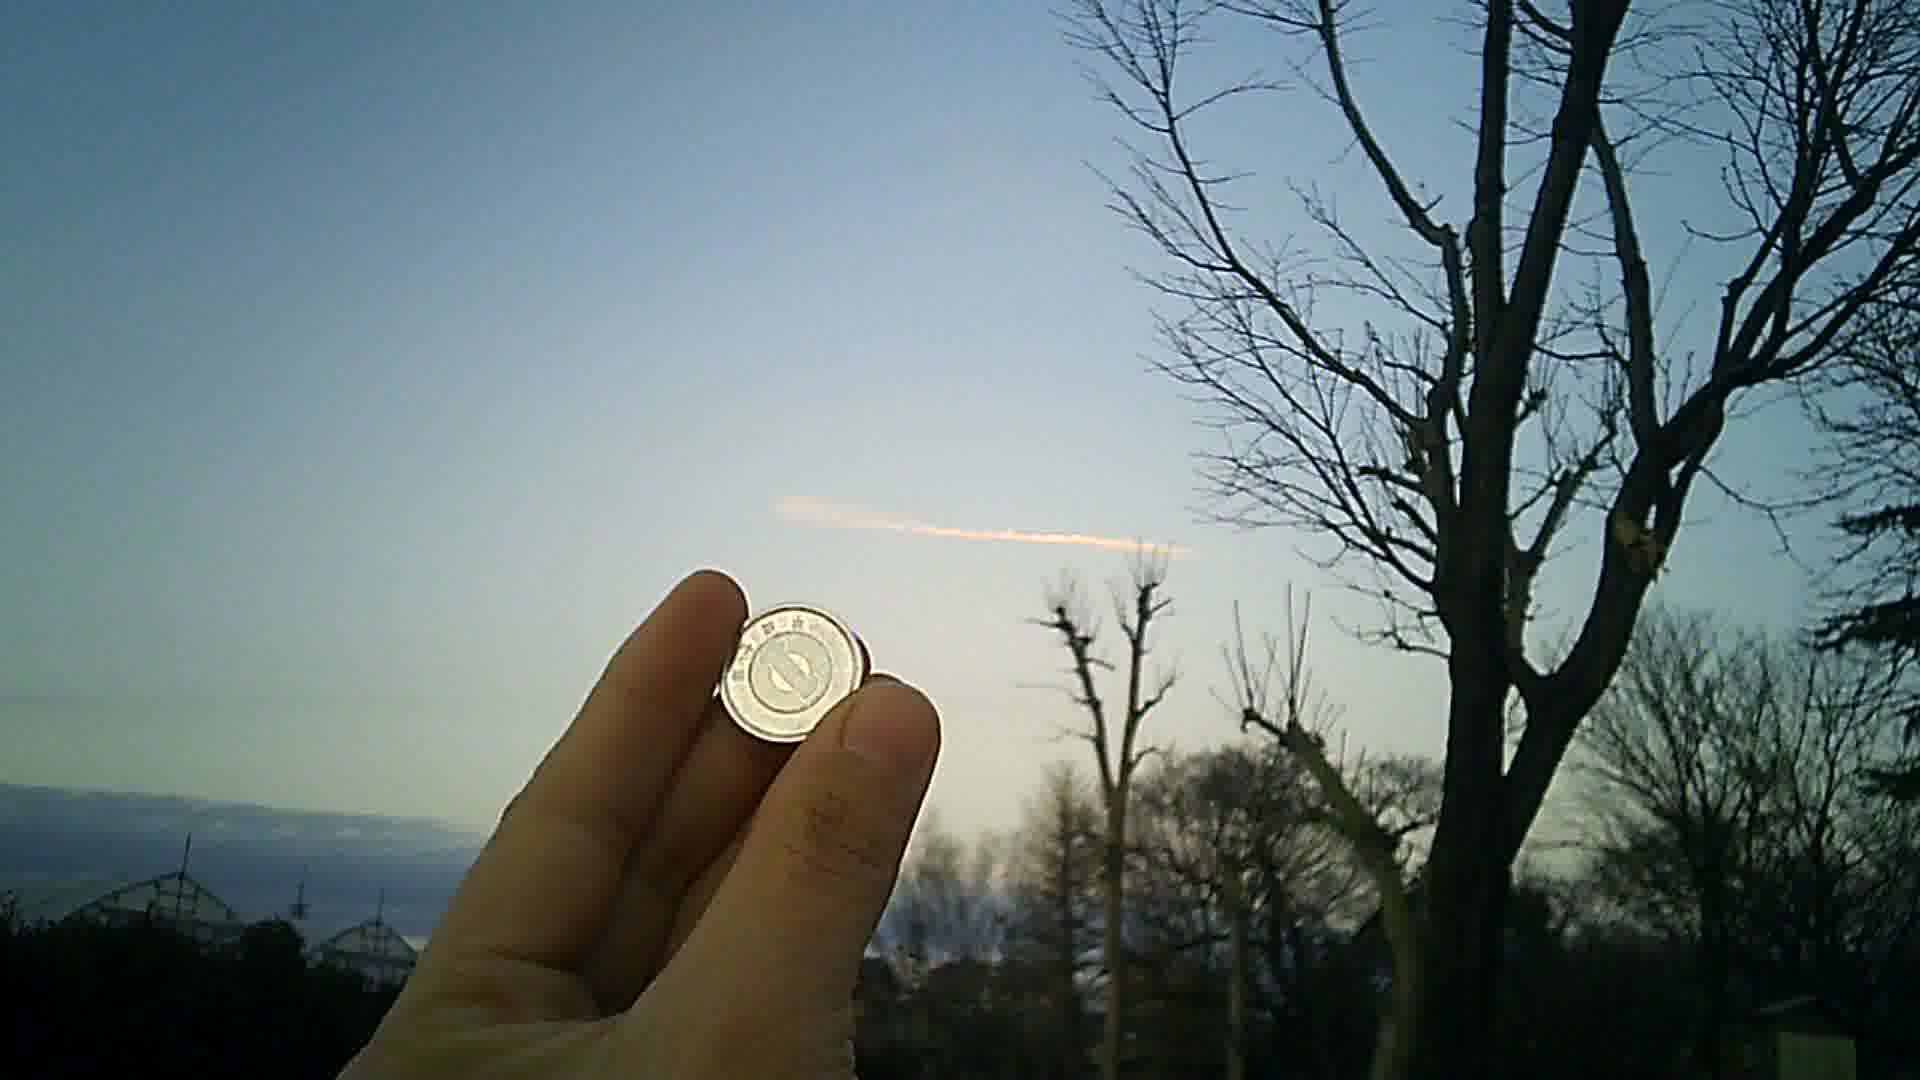1 Yen: (715, 593, 868, 738)
